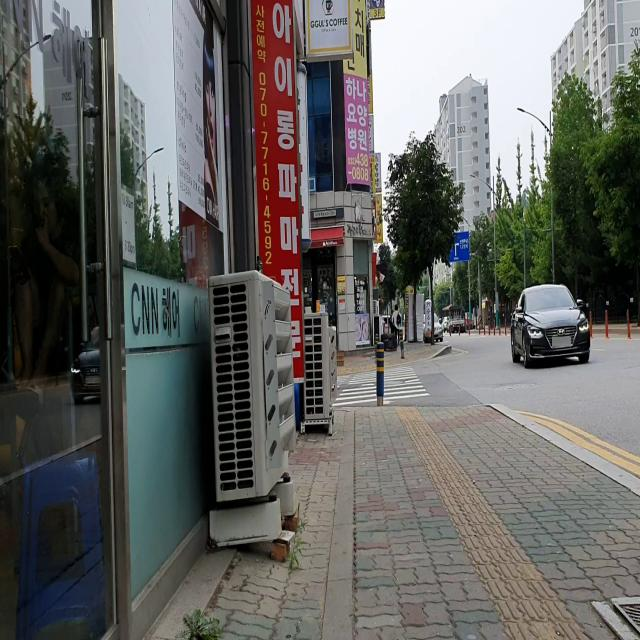횡단보도: (331, 365, 430, 407)
